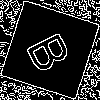B: (25, 25, 81, 76)
